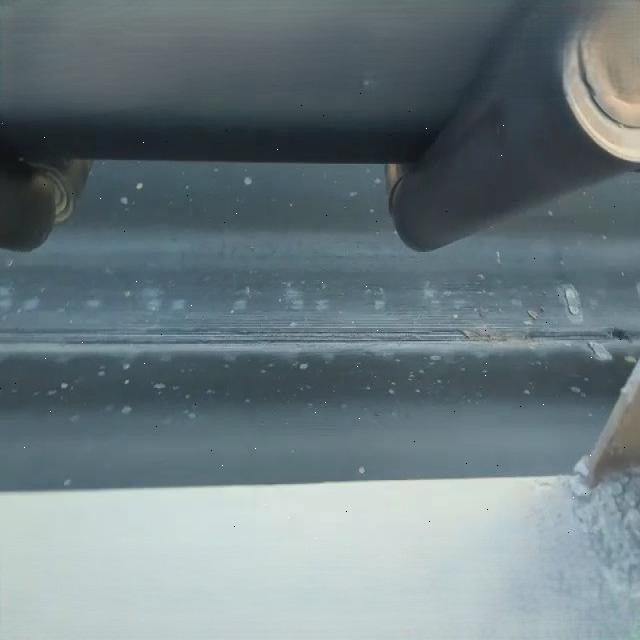Wear: (0, 318, 640, 354)
